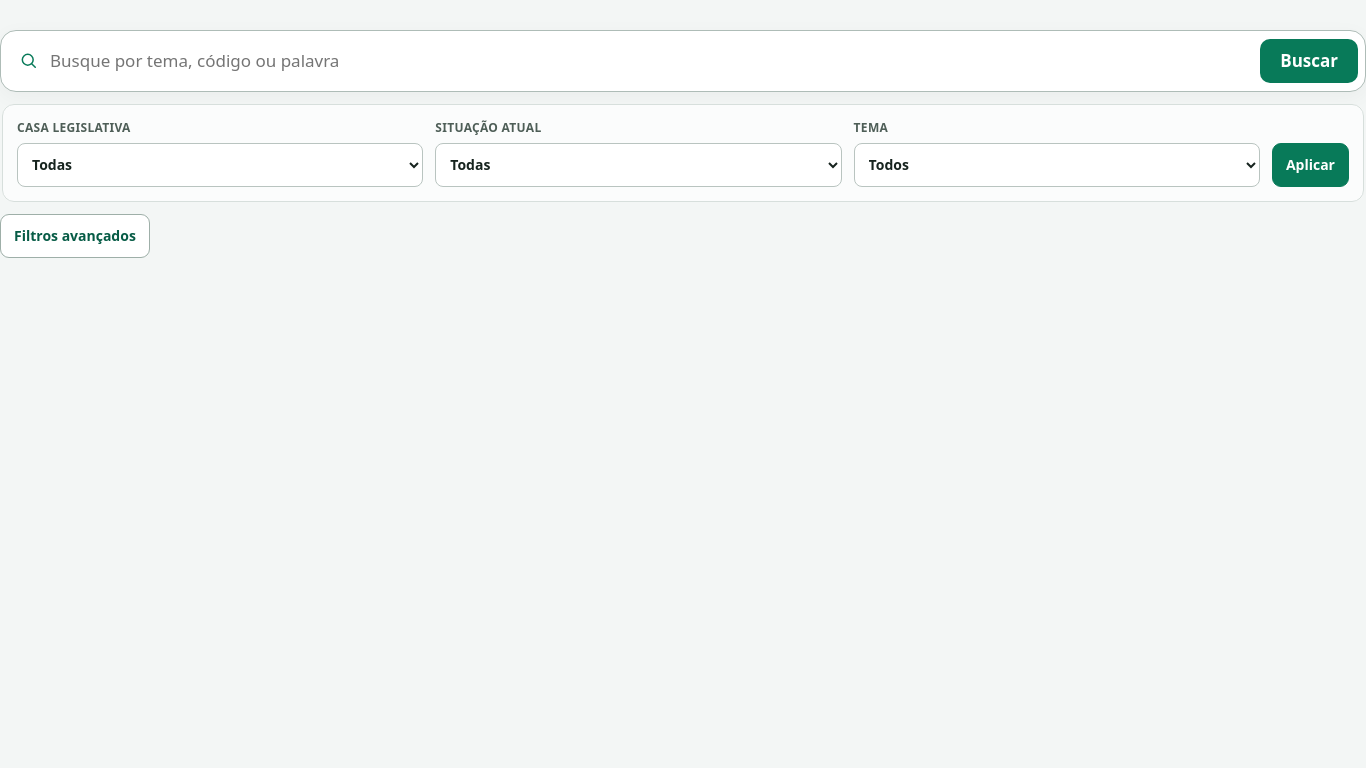
Scenario: advanced feed filters › uses seven native collapsible regions and semantic filter groups
Click the button "Filtros avançados". click: (75, 236)
box: 0,214 -> 150,258
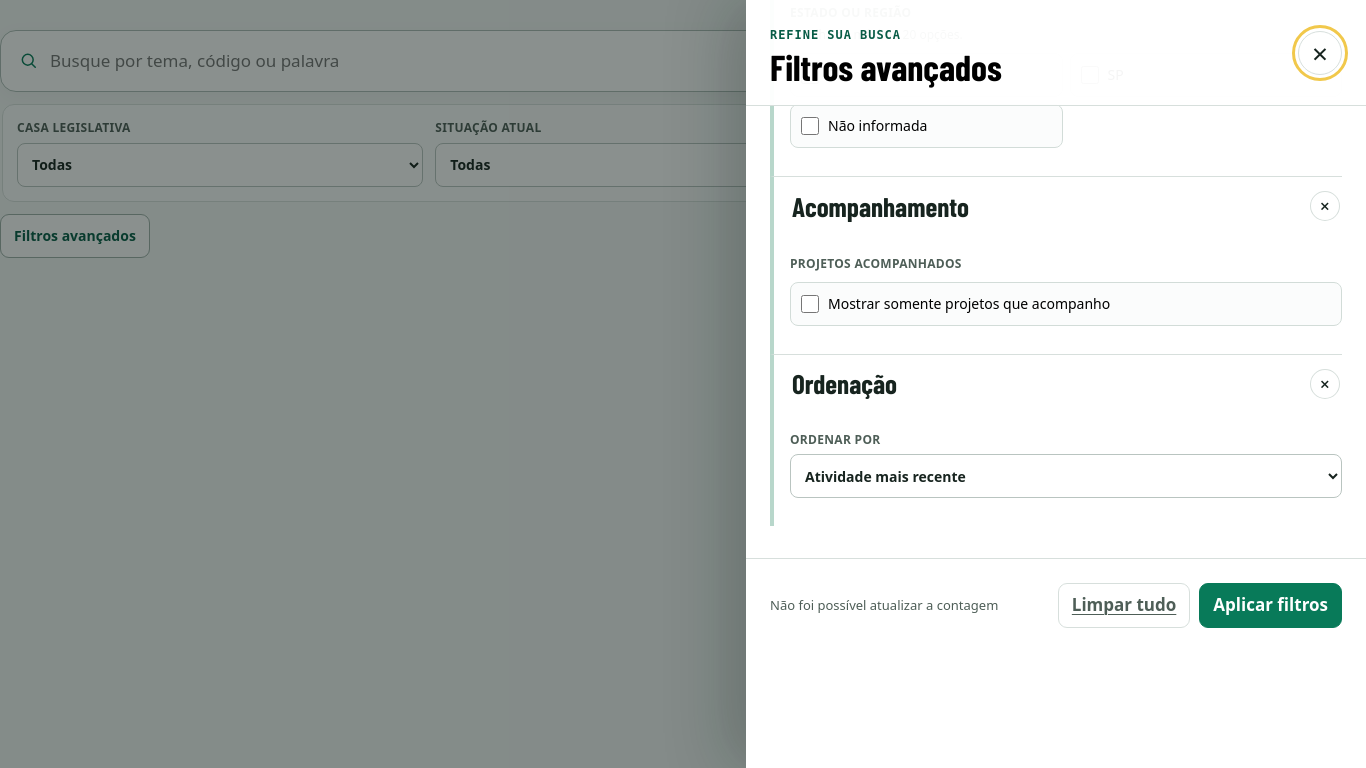
Expected: the heading "Acompanhamento +" is shown, 790,177 -> 1342,235
Expected: the heading "Ordenação +" is shown, 790,355 -> 1342,413
Expected: the number of checkboxes labelled "Não informada" is 2
